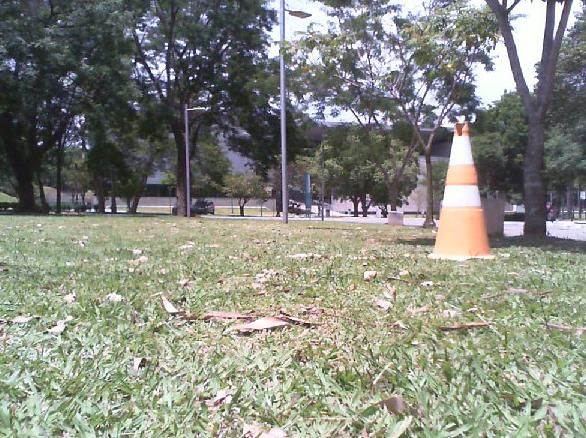0 cone: (428, 121, 497, 261)
